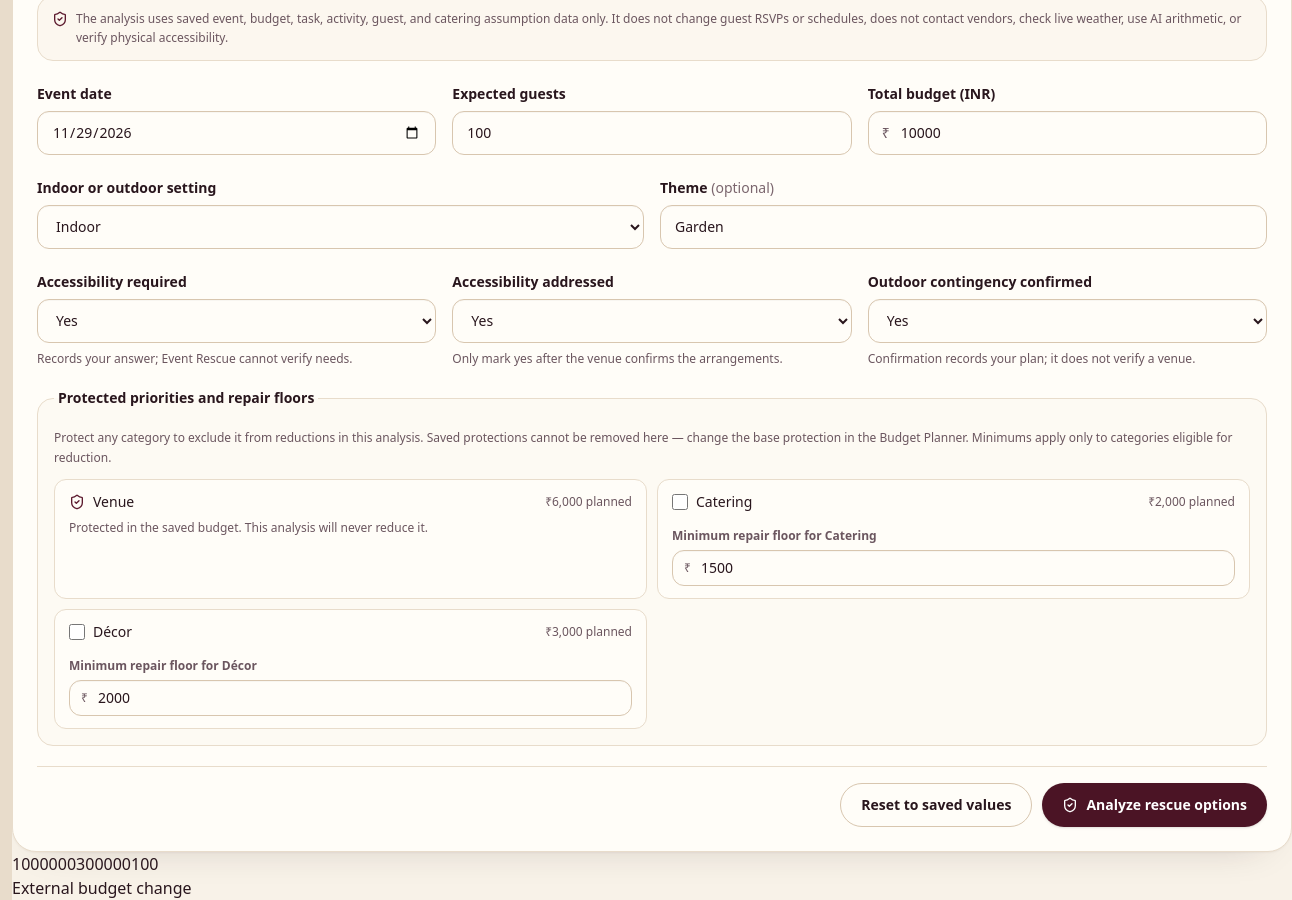
Test: EventRescuePage › focuses the invalid minimum repair floor when only that field fails validation
The image size is (1292, 900).
(page scrolled)
Clear the field labelled "Minimum repair floor for Décor" at (350,698), box [69,680,632,716]
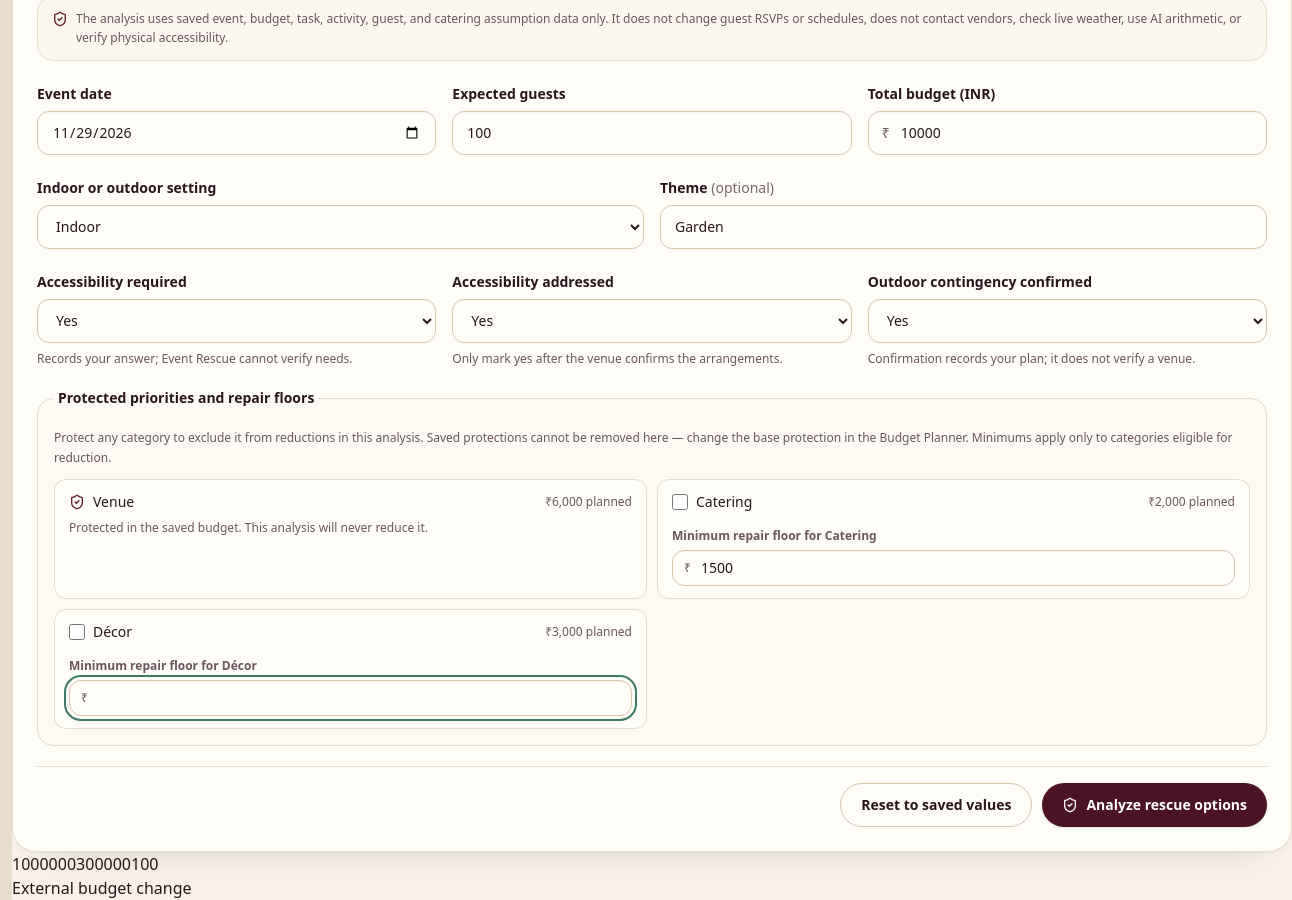
Click the button "Analyze rescue options".
click(1155, 805)  # box [1042,783,1267,827]
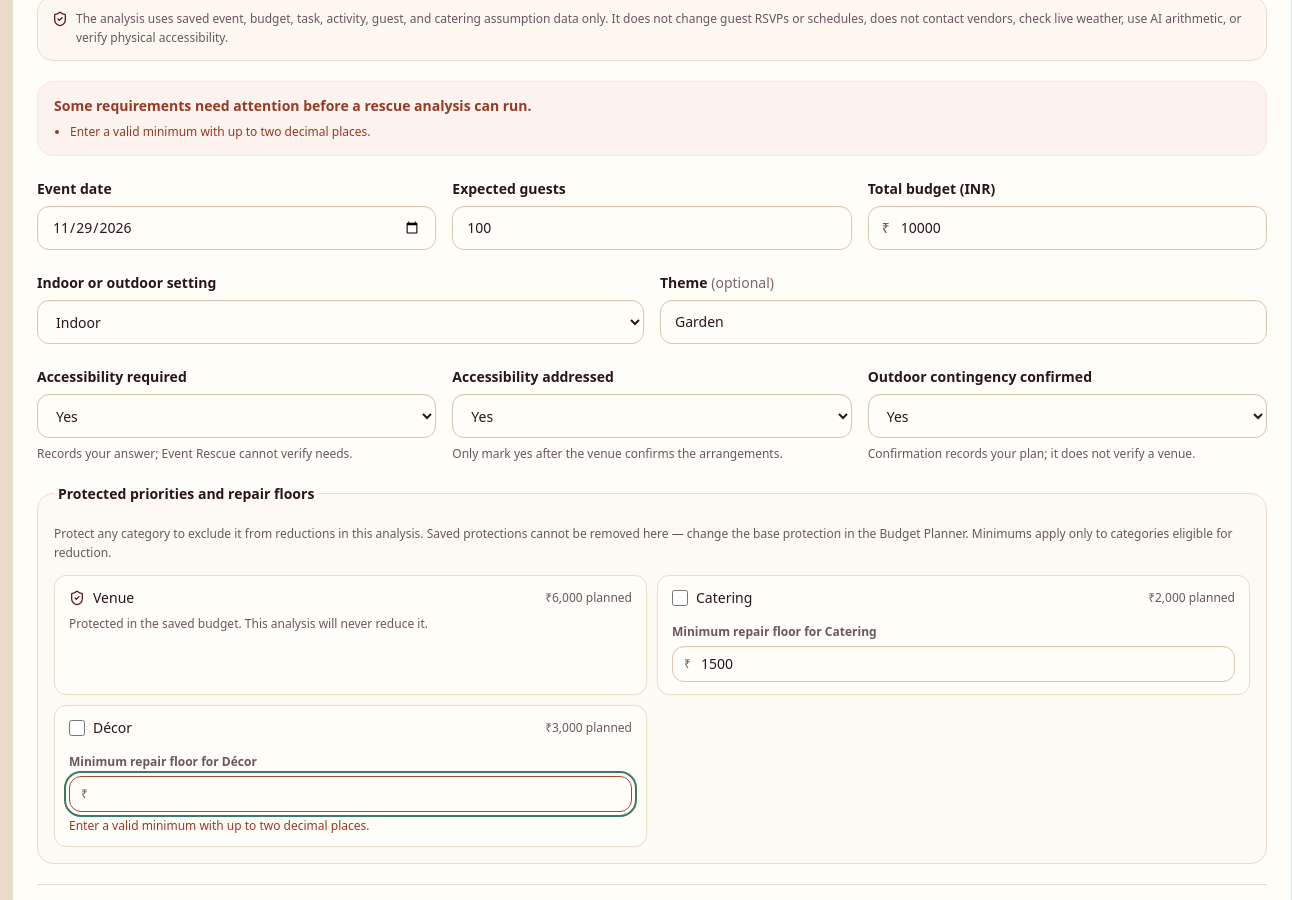
Now the message shows "valid minimum", box [70,123,370,140]
